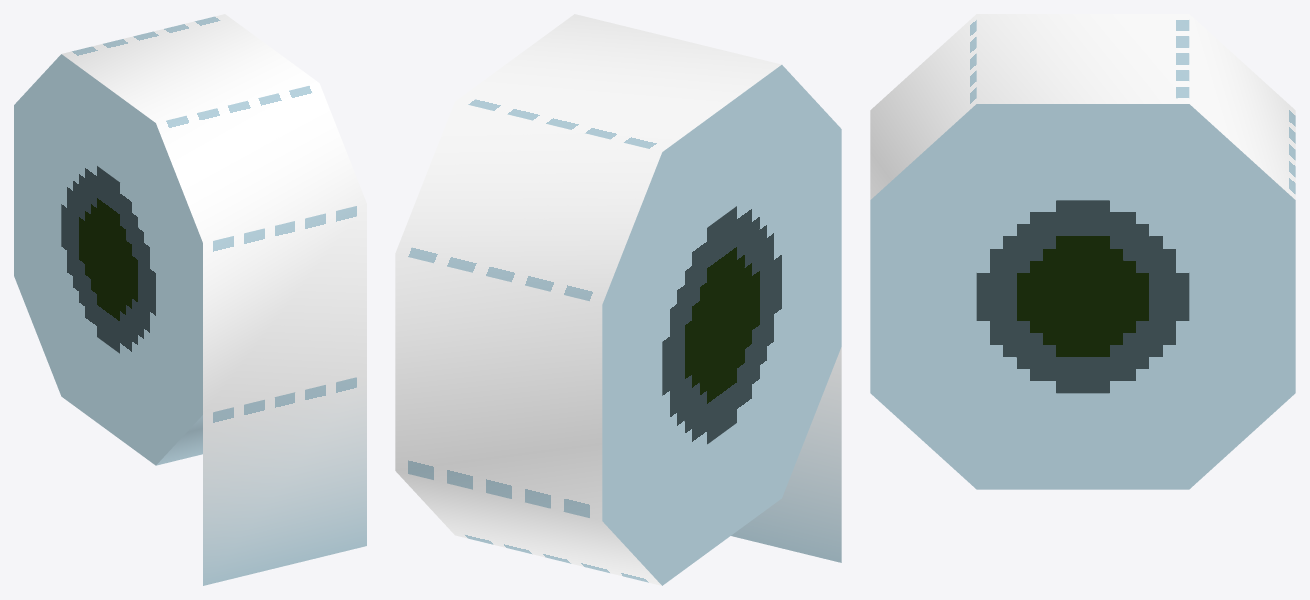
File: water_paper_00.gltf
3 renders of one model, left to right at view 1: azimuth 30°, elevation 25°; view 2: azimuth 150°, elevation 25°; view 3: azimuth 270°, elevation 25°, orthographic. The views are drawn at different scales.
Size of the model in its own units: 1 by 2.5 by 2.
Materials: 1 (1 with a texture image).
